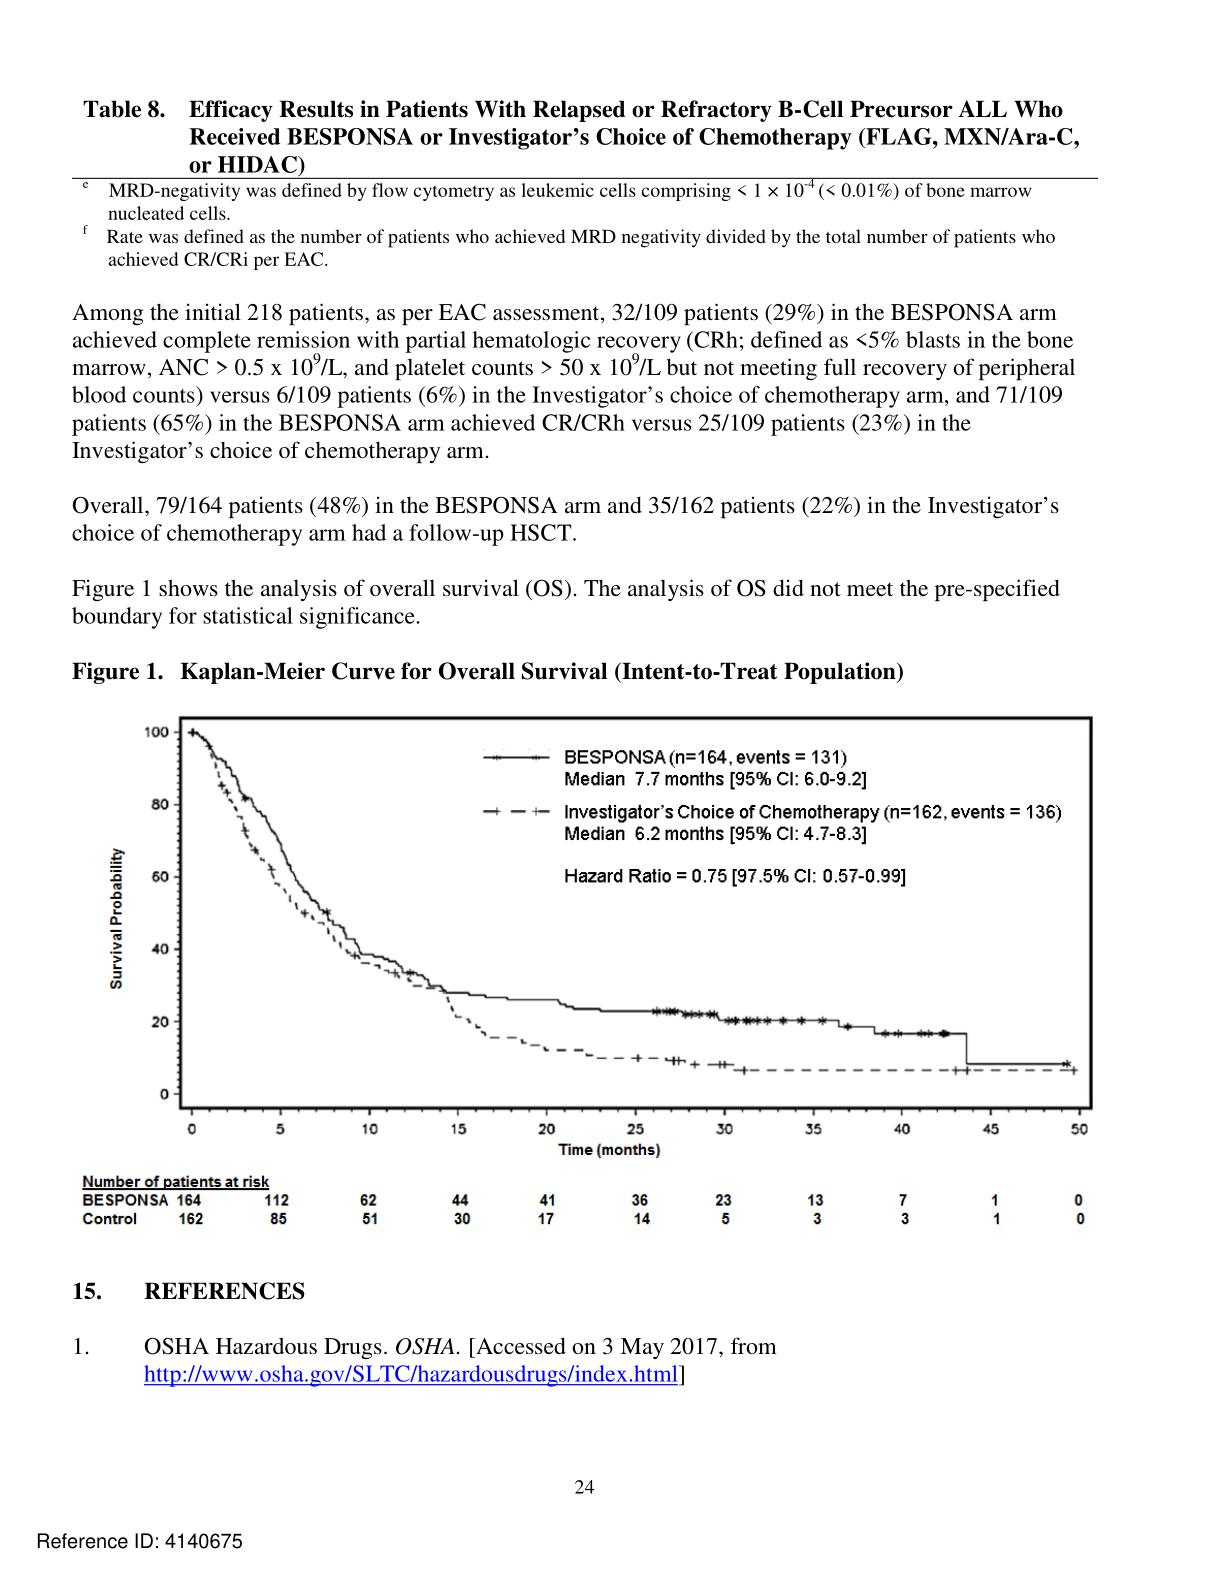nolines: (78, 1170, 1086, 1227)
